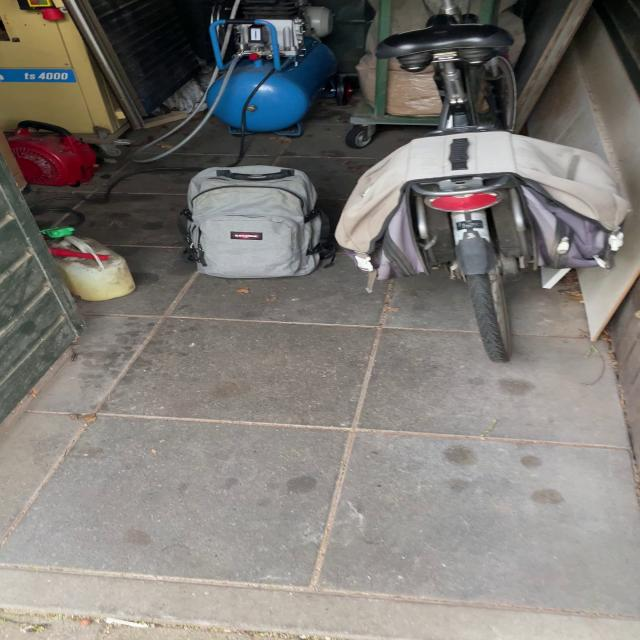backpack: (170, 161, 344, 283)
